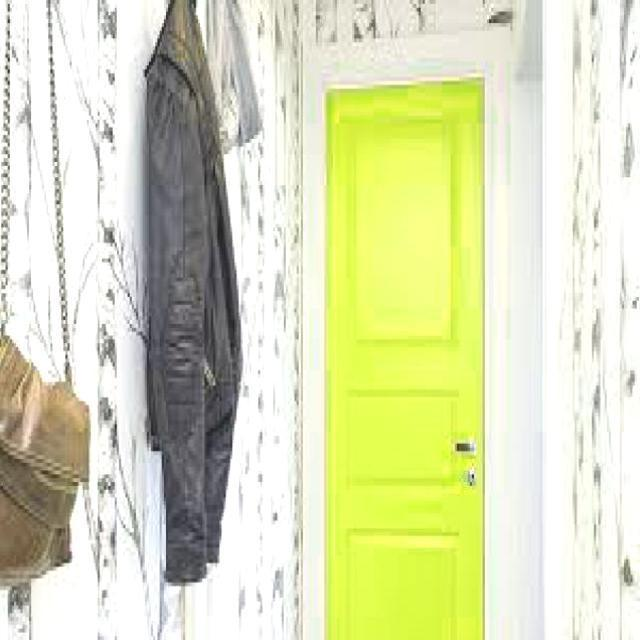door: (322, 74, 485, 638)
